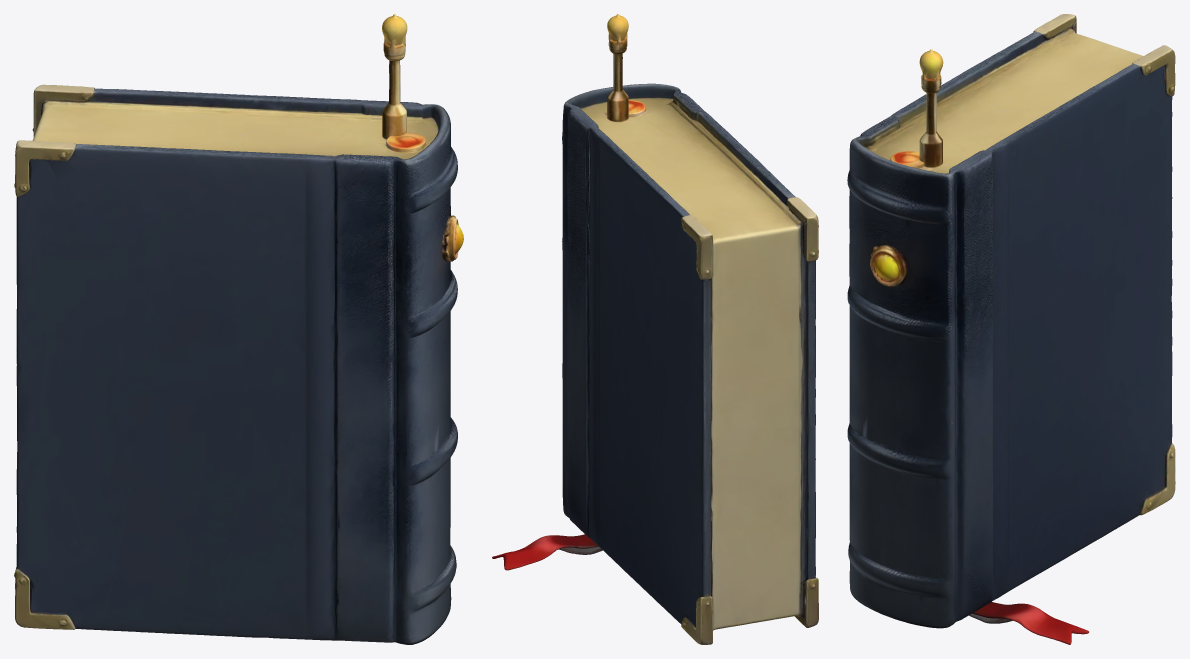
Rendered from book.glb.
3 views of the same model, side by side, from view 1: azimuth 30°, elevation 25°; view 2: azimuth 150°, elevation 25°; view 3: azimuth 270°, elevation 25° (orthographic). The views are drawn at different scales.
Parts seen in each view (by area): view 1: tripo_node_f41b09c4-41b2-4946-aeae-bed0a7cfde5d; view 2: tripo_node_f41b09c4-41b2-4946-aeae-bed0a7cfde5d; view 3: tripo_node_f41b09c4-41b2-4946-aeae-bed0a7cfde5d.
Part boxes in pixels (left/top/right/bottom): tripo_node_f41b09c4-41b2-4946-aeae-bed0a7cfde5d: left=14, top=14, right=463, bottom=644; tripo_node_f41b09c4-41b2-4946-aeae-bed0a7cfde5d: left=492, top=14, right=818, bottom=644; tripo_node_f41b09c4-41b2-4946-aeae-bed0a7cfde5d: left=847, top=14, right=1175, bottom=644.
Size of the model in its own units: 0.656 by 1 by 0.5241.
1 material, 1 textured.
